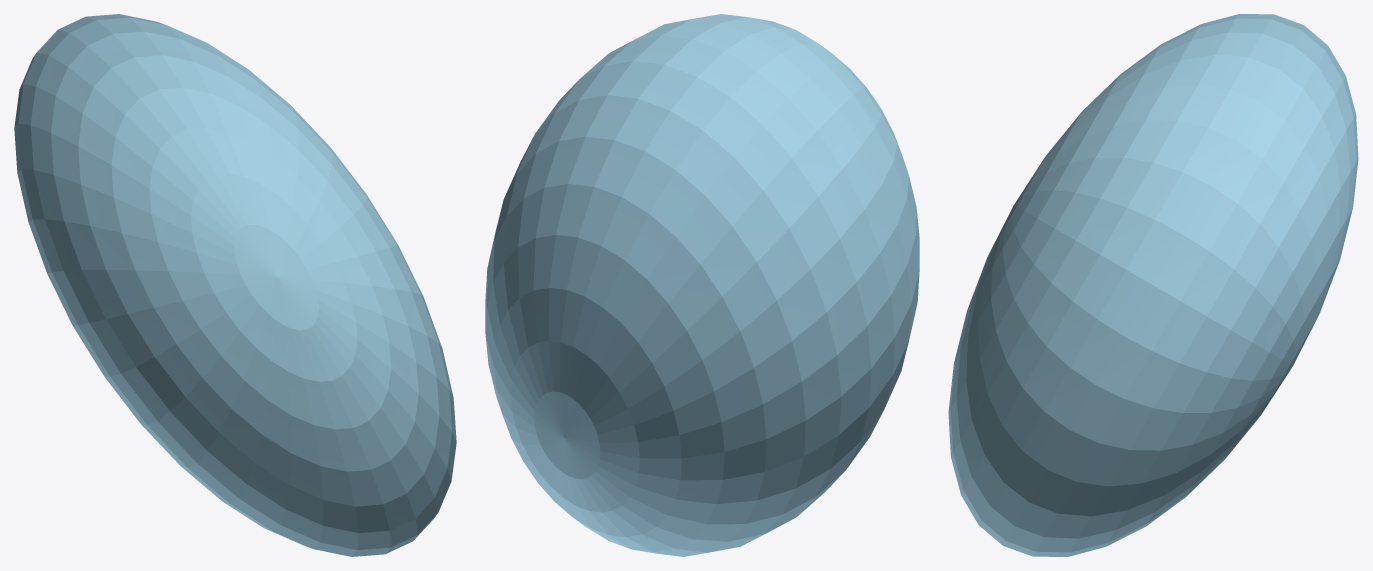
The model's file is ManoDerechaReyHelado_obj.obj.
3 renders of one model, left to right at view 1: azimuth 30°, elevation 25°; view 2: azimuth 150°, elevation 25°; view 3: azimuth 270°, elevation 25°, orthographic. The views are drawn at different scales.
Visible parts, largest first — view 1: Mano_Derecha; view 2: Mano_Derecha; view 3: Mano_Derecha.
Boxes of the visible parts, x1,y1,x2,y2 form: Mano_Derecha: (14,14,456,556); Mano_Derecha: (485,14,919,556); Mano_Derecha: (948,14,1358,556).
Bounding box in the file's own units: 1.19 × 1.68 × 1.36.
